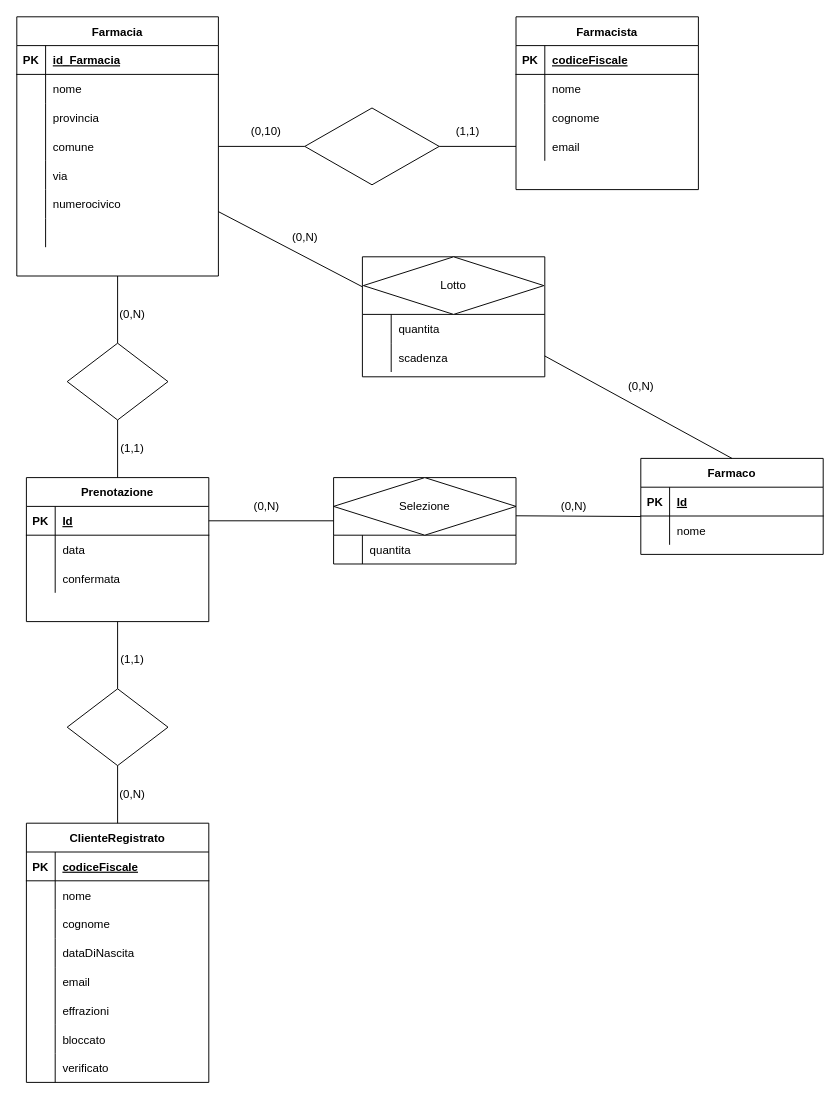
Some shapes in this 840 by 1099 pixel diagram are drawn without their labels. Each missing label, with the centre of its shape:
"associatoA" goes at (x=117, y=381).
"effettuata" goes at (x=117, y=727).
"impiegato" goes at (x=371, y=146).
